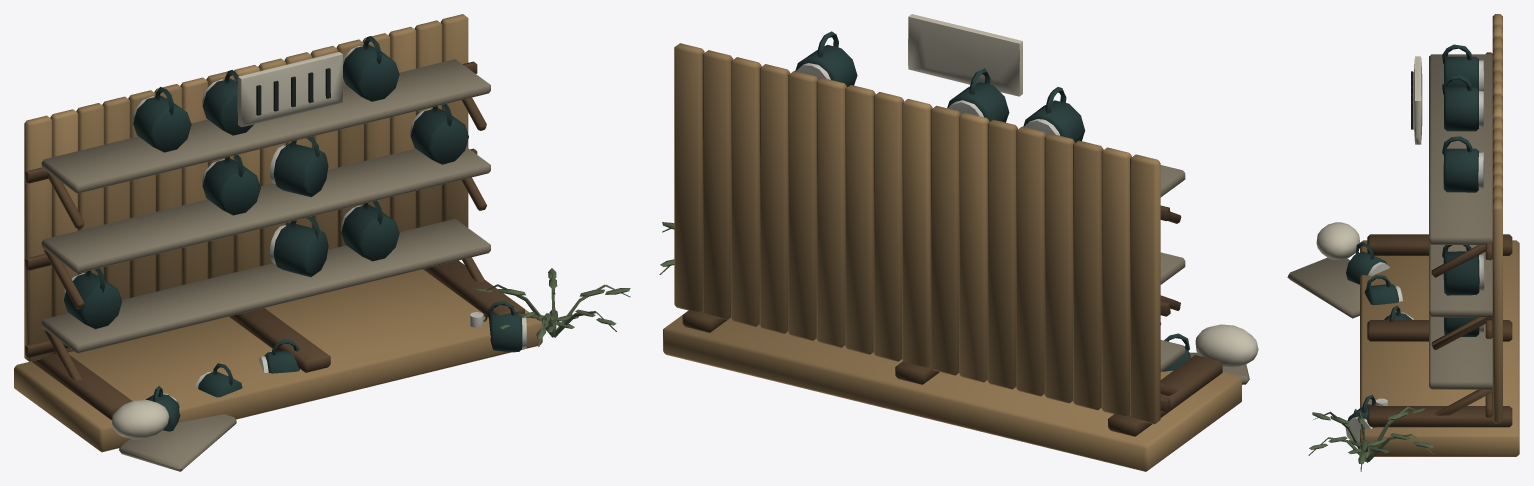
Rendered from lamp_rack_b_lod1.glb.
3 renders of one model, left to right at view 1: azimuth 30°, elevation 25°; view 2: azimuth 150°, elevation 25°; view 3: azimuth 270°, elevation 25°, orthographic. The views are drawn at different scales.
Visible parts, largest first — view 1: Surface.001; view 2: Surface.001; view 3: Surface.001.
Part boxes in pixels (x1=…): Surface.001: x1=14, y1=14, x2=630, y2=471; Surface.001: x1=659, y1=14, x2=1258, y2=471; Surface.001: x1=1287, y1=14, x2=1519, y2=471.
Size of the model in its own units: 7.7 by 4.31 by 3.2.
